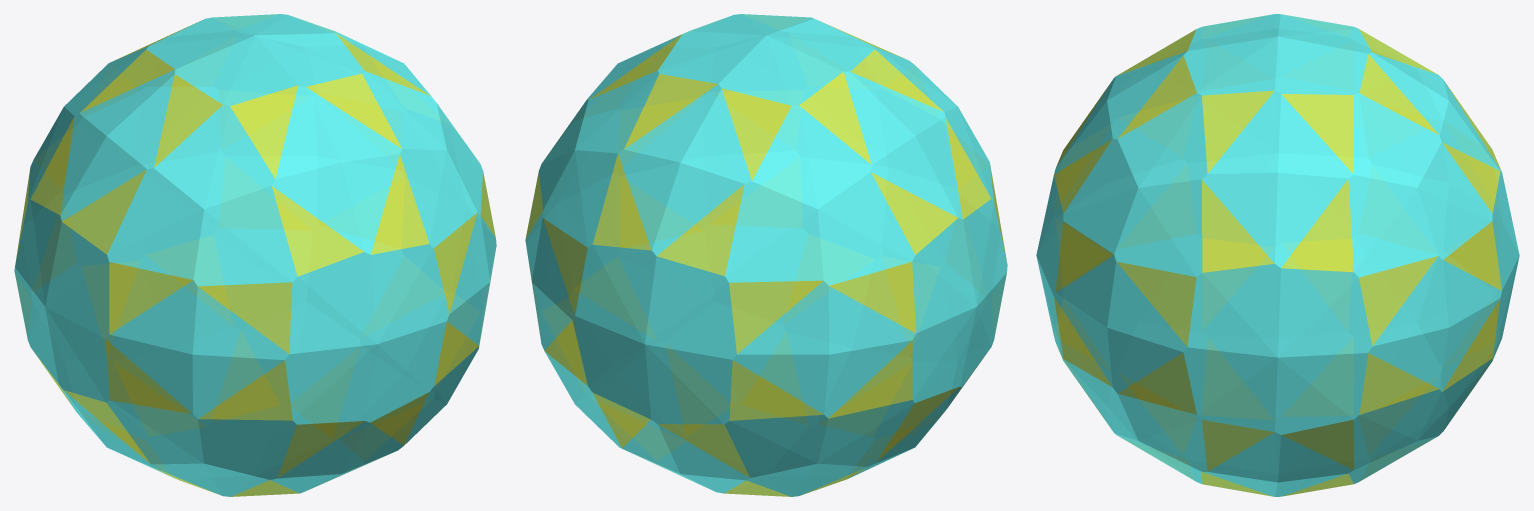
Rendered from BiscribedPropelloDisdyakisDodecahedron.obj.
3 renders of one model, left to right at view 1: azimuth 30°, elevation 25°; view 2: azimuth 150°, elevation 25°; view 3: azimuth 270°, elevation 25°, orthographic.
Bounding box in the file's own units: 2 × 2 × 2.
